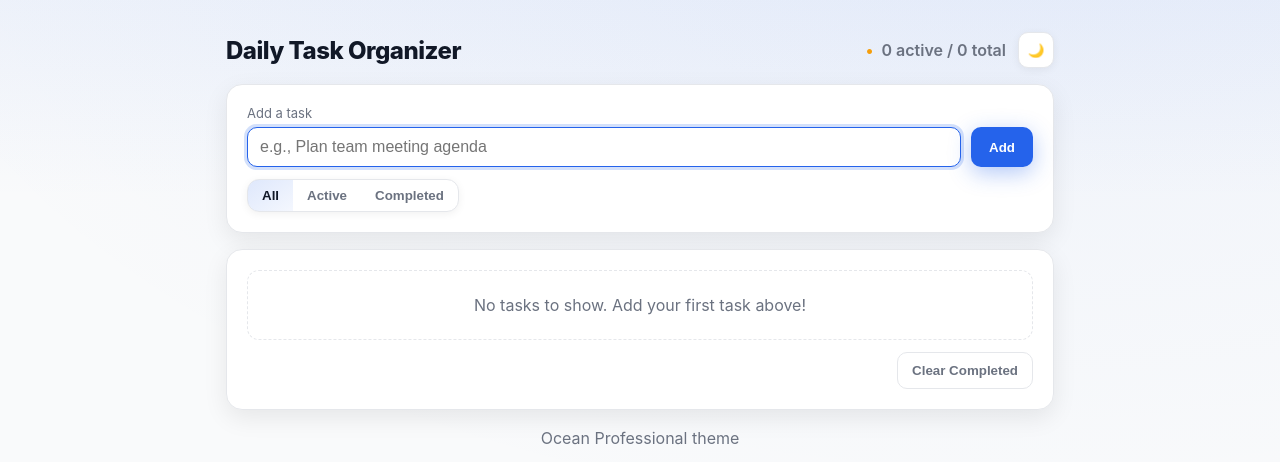
Test: App UI › allows adding a task and hides empty state
The image size is (1280, 462).
Note: Type 'Buy milk' and click Add
Step 1. Type "Buy milk" into the field labelled "Add a task" → (604, 147), box top-left (247, 127), bottom-right (961, 167)
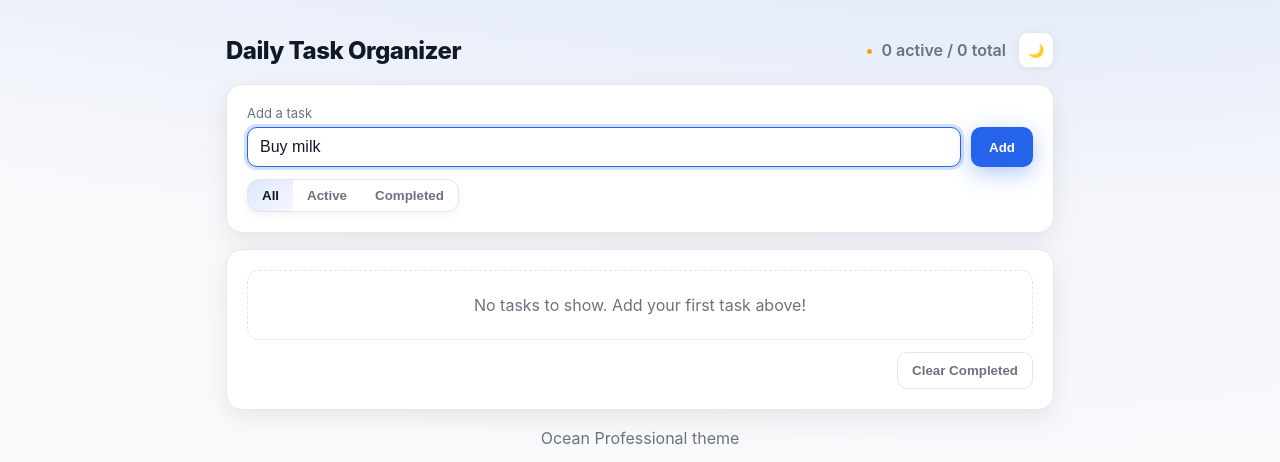
Step 2. Click the button "Add" → (1002, 147), box top-left (971, 127), bottom-right (1033, 167)
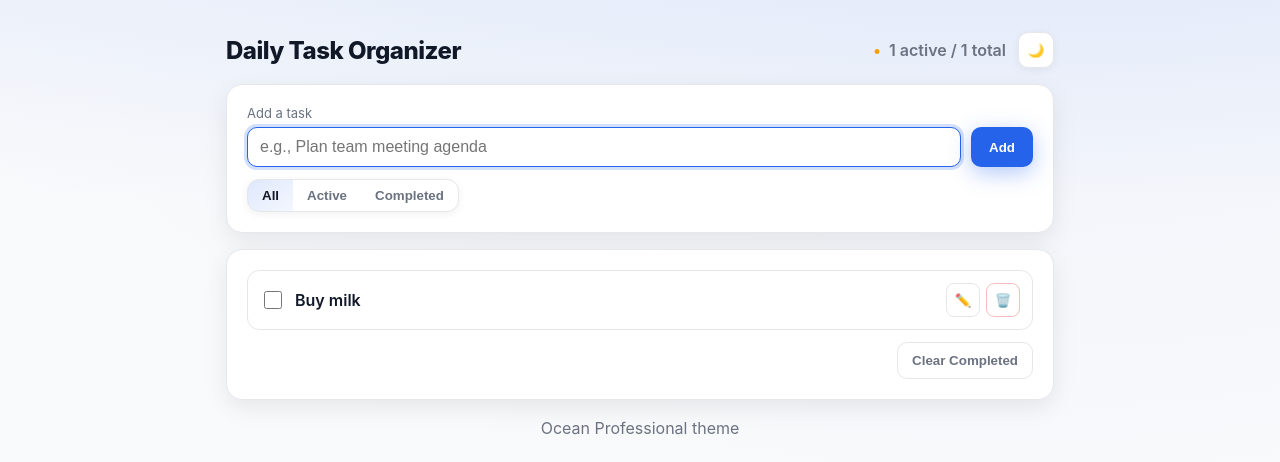
Now the text "Buy milk" is shown, box top-left (295, 290), bottom-right (361, 310)
Now the text "No tasks to show. Add your first task above!" is gone
